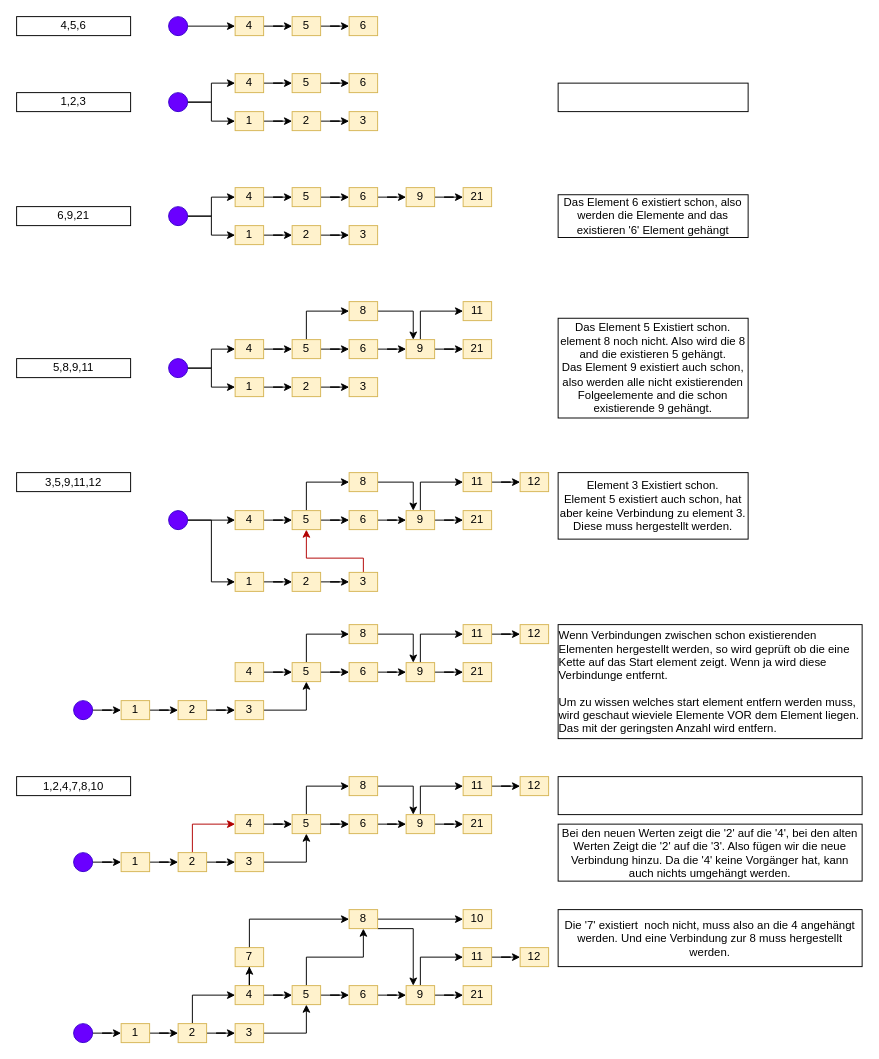
This 879x1059 diagram has some shape labels left out. The shapes that lost their labels are listed below. From the top down, each one's box as (x1, y1, x2, y2) in pixels, then its label:
(557, 82, 748, 112): Keine Gemeinsamen Elemente, also hängen bede am Start
(557, 776, 862, 815): Die '1' und '2' existieren schon und haben die gleiche Verbindung
